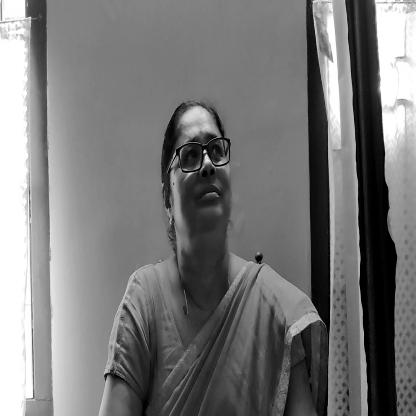Distracted: (165, 104, 238, 248)
